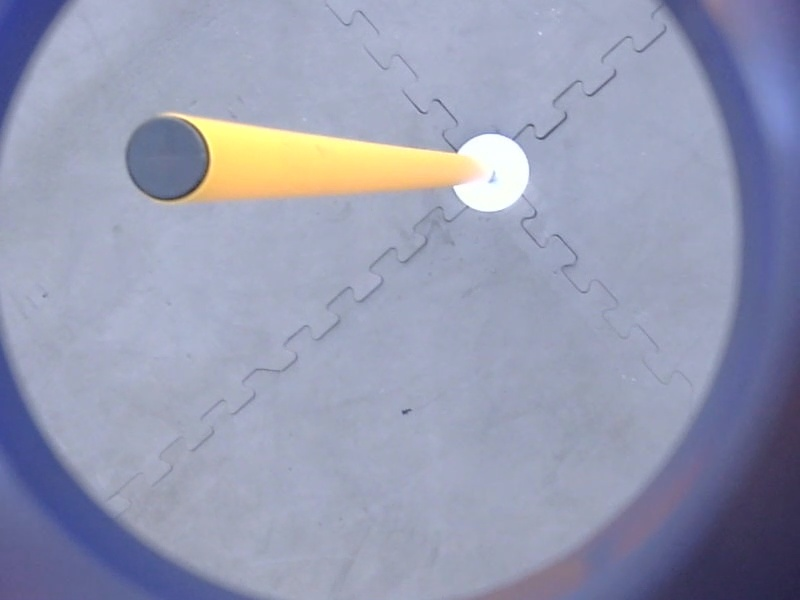tip: (119, 110, 218, 209)
